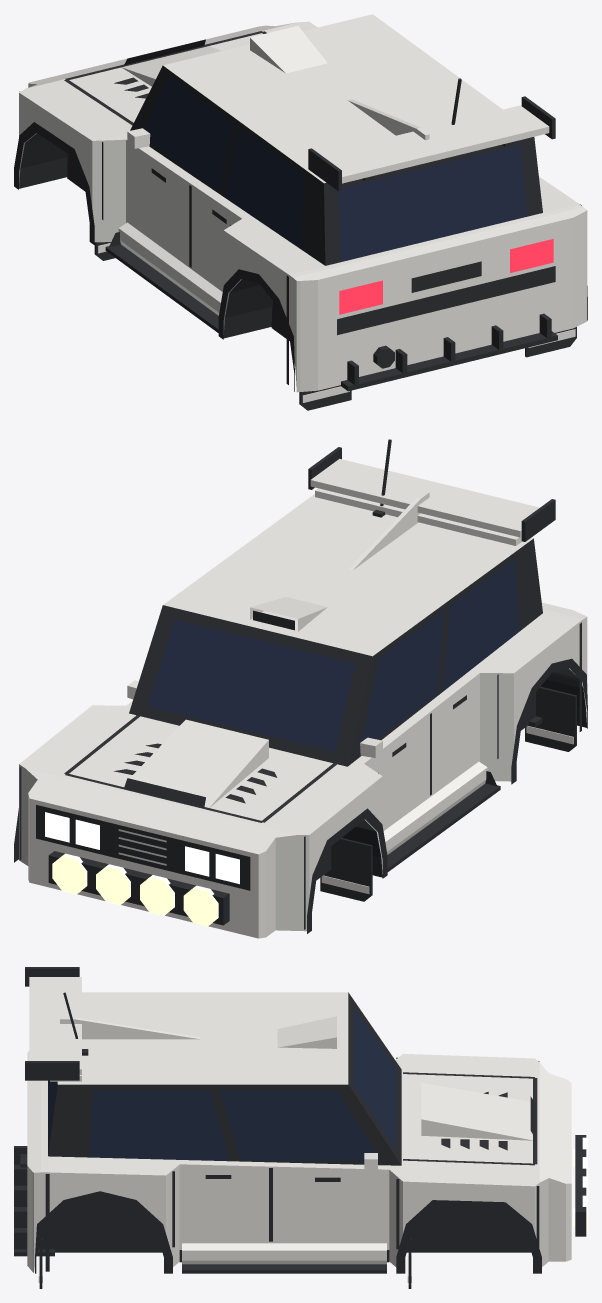
File: Furia.glb
3 renders of one model, top to bottom at view 1: azimuth 30°, elevation 25°; view 2: azimuth 150°, elevation 25°; view 3: azimuth 270°, elevation 25°, orthographic. The views are drawn at different scales.
Visible parts, largest first — view 1: BumperRear, Roof, RearWindow, Door_FL, Pillars, Opt_Wing_Rally_WingBlade, Hood, Window_FL, Window_RL, Cowl, Underbody, TailGarnish (+23 smaller); view 2: Roof, BumperFront, Windshield, Hood, Pillars, Opt_Wing_Rally_WingBlade, Opt_Hood_Scoop_HoodScoop, Door_RL, Window_FL, Window_RL, Grille, Opt_Bumper_Lamps_RallyLamp (+23 smaller); view 3: Roof, Hood, Door_FR, WheelWell, Window_FR, Window_RR, Pillars, Door_RR, BumperFront, Opt_Hood_Scoop_HoodScoop, Opt_Skirts_Side_AccSkirt_R, Opt_Wing_Rally_WingBlade (+15 smaller).
Boxes of the visible parts, box(x1,y1,x2,y2) form: BumperRear: box(290, 205, 587, 392); Roof: box(163, 14, 502, 183); RearWindow: box(339, 145, 527, 261); Door_FL: box(98, 139, 191, 268); Pillars: box(130, 65, 542, 265); Opt_Wing_Rally_WingBlade: box(320, 105, 549, 183); Hood: box(19, 21, 317, 140); Window_FL: box(144, 76, 233, 192); Window_RL: box(224, 128, 304, 249); Cowl: box(99, 133, 578, 274); Underbody: box(19, 133, 272, 338); TailGarnish: box(337, 266, 555, 335); Roof: box(163, 494, 533, 656); BumperFront: box(25, 768, 298, 938); Windshield: box(147, 619, 355, 751); Hood: box(19, 705, 382, 834); Pillars: box(129, 538, 542, 766); Opt_Wing_Rally_WingBlade: box(310, 458, 539, 537); Opt_Hood_Scoop_HoodScoop: box(122, 719, 268, 807); Door_RL: box(429, 673, 502, 796); Window_FL: box(359, 610, 444, 752); Window_RL: box(442, 559, 519, 691); Grille: box(36, 805, 250, 890); Opt_Bumper_Lamps_RallyLamp: box(52, 853, 218, 926); Roof: box(57, 992, 348, 1084); Hood: box(400, 1053, 539, 1186); Door_FR: box(271, 1166, 400, 1266); WheelWell: box(39, 1199, 531, 1252); Window_FR: box(219, 1090, 380, 1160); Window_RR: box(89, 1090, 229, 1160); Pillars: box(48, 992, 401, 1165); Door_RR: box(170, 1164, 270, 1266); BumperFront: box(539, 1063, 571, 1266); Opt_Hood_Scoop_HoodScoop: box(421, 1082, 532, 1140); Opt_Skirts_Side_AccSkirt_R: box(182, 1243, 386, 1264); Opt_Wing_Rally_WingBlade: box(29, 977, 81, 1074).
Size of the model in its own units: 6.7 by 6.14 by 12.6.
